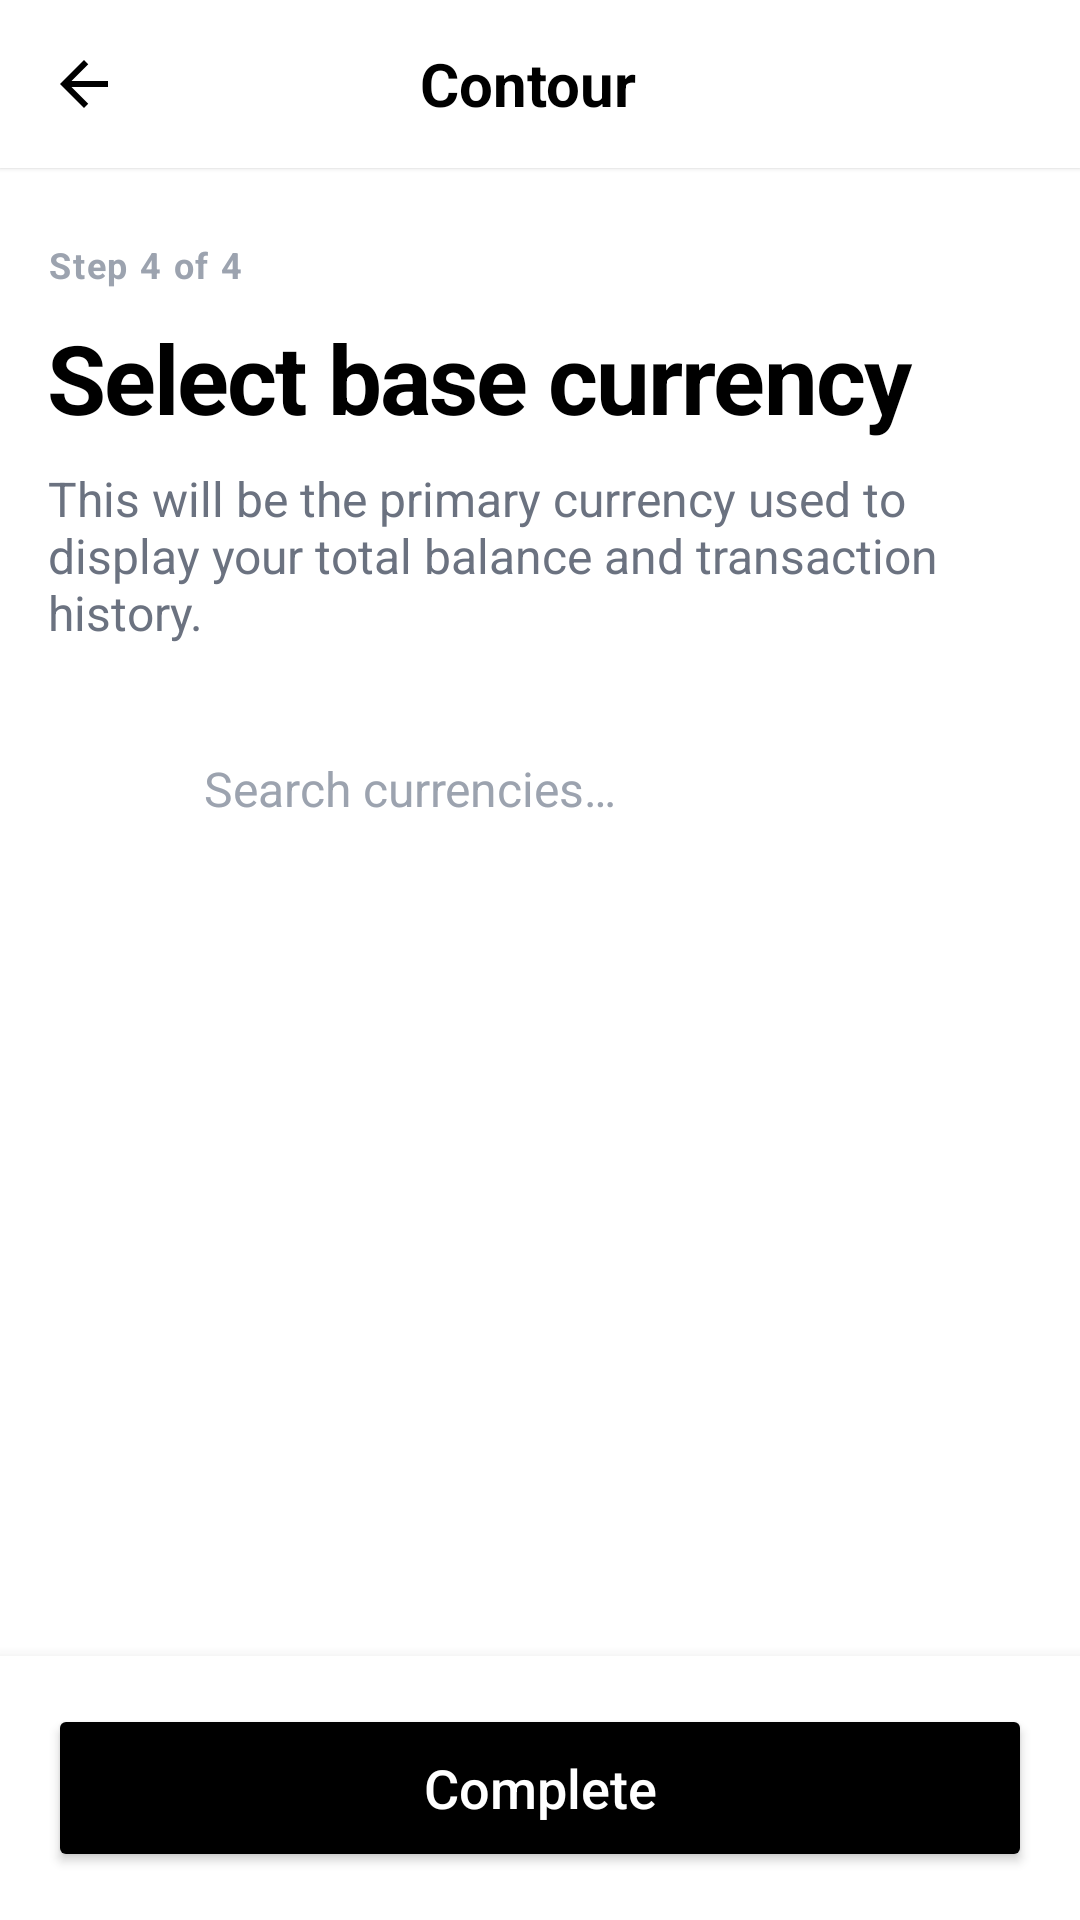

Screen size 1080x1920. Icon name, then its box in pixels as (x1, y1, x2, y2):
Go back: (60, 60, 108, 108)
